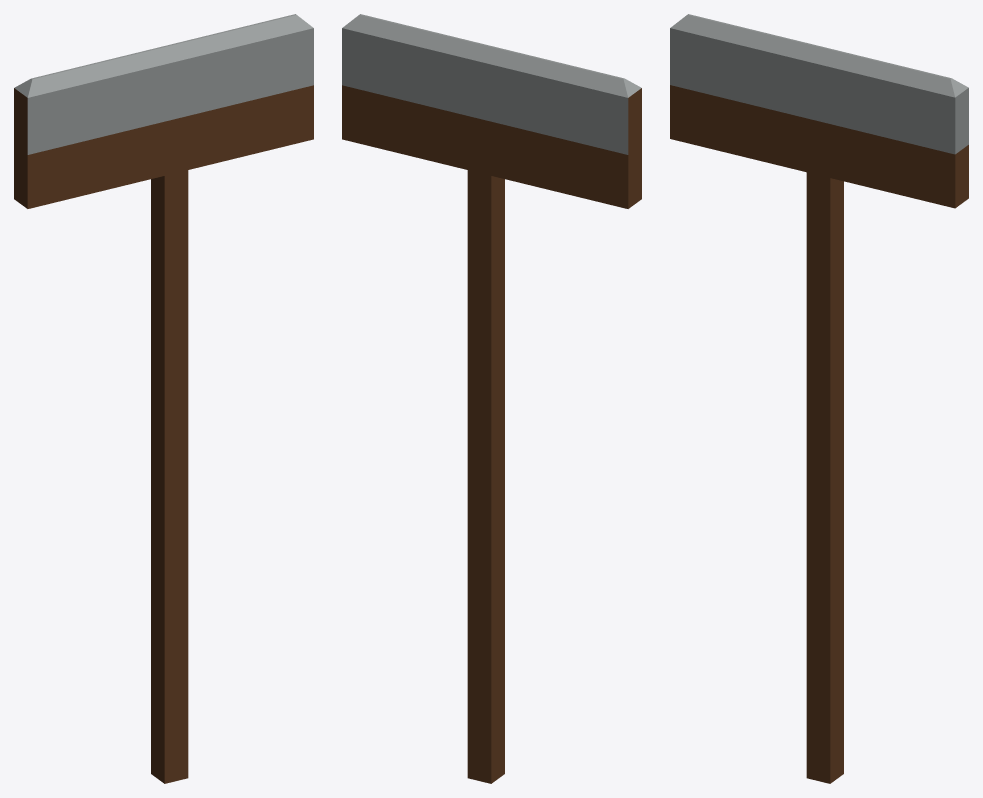
File: shaver.glb
3 views of the same model, side by side, from view 1: azimuth 30°, elevation 25°; view 2: azimuth 150°, elevation 25°; view 3: azimuth 330°, elevation 25° (orthographic).
Parts seen in each view (by area): view 1: Cube; view 2: Cube; view 3: Cube.
Boxes of the visible parts, bbox=[...] form: Cube: bbox=[14, 14, 313, 783]; Cube: bbox=[342, 14, 641, 783]; Cube: bbox=[670, 14, 968, 783].
Size of the model in its own units: 0.0416 by 0.1014 by 0.00345.
